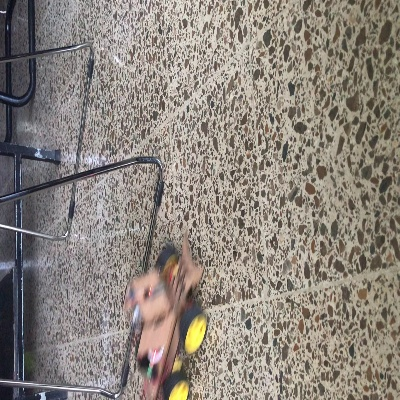Robot: (120, 229, 207, 399)
